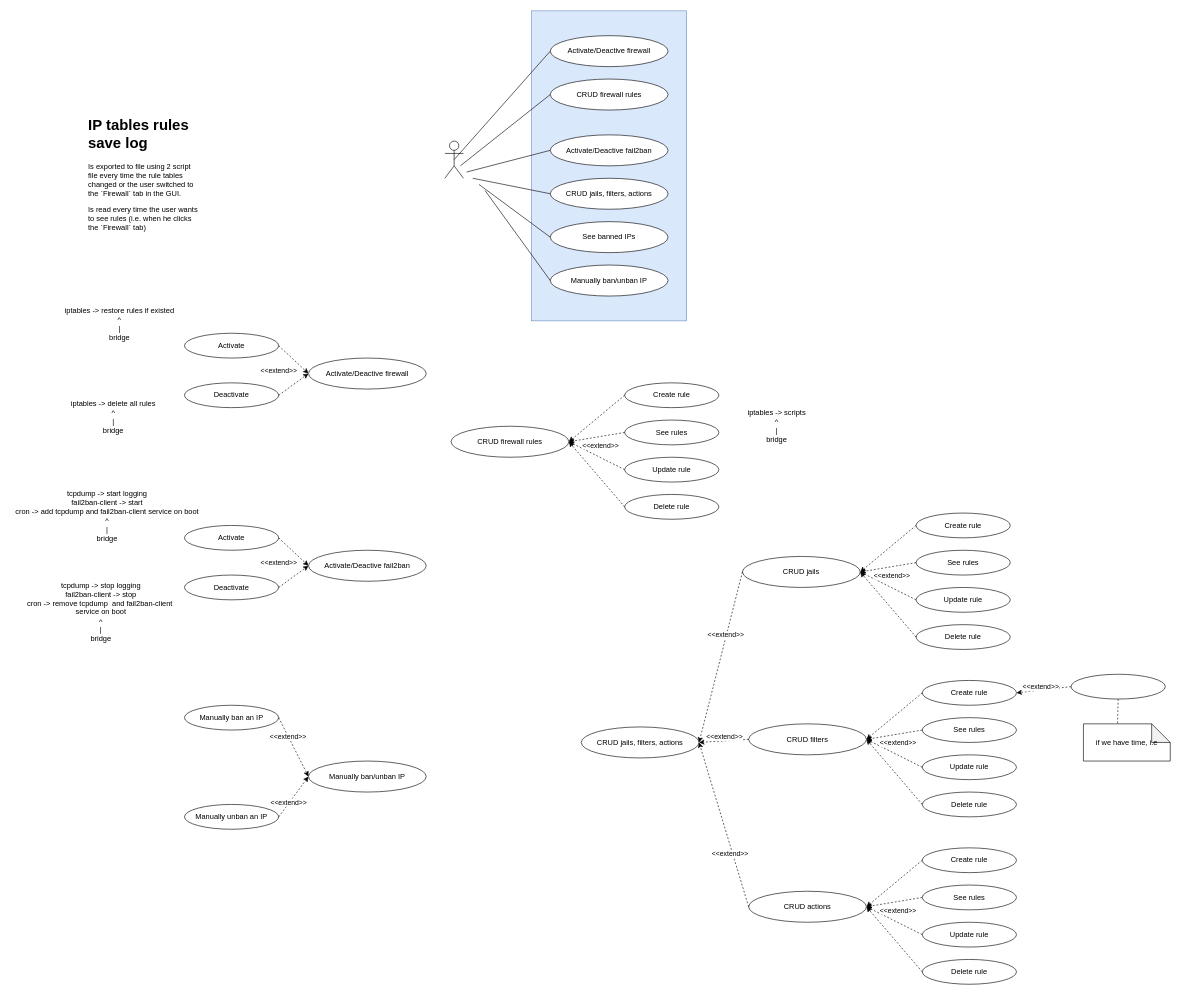
The diagram is 1181 pixels wide and 995 high, and some of its shapes have lost their labels. The shapes that lost their labels are listed below. From the top down, each one's centre as x and y in pixels, then its label:
pixel 453 159: Network admin
pixel 1117 686: Test regex
